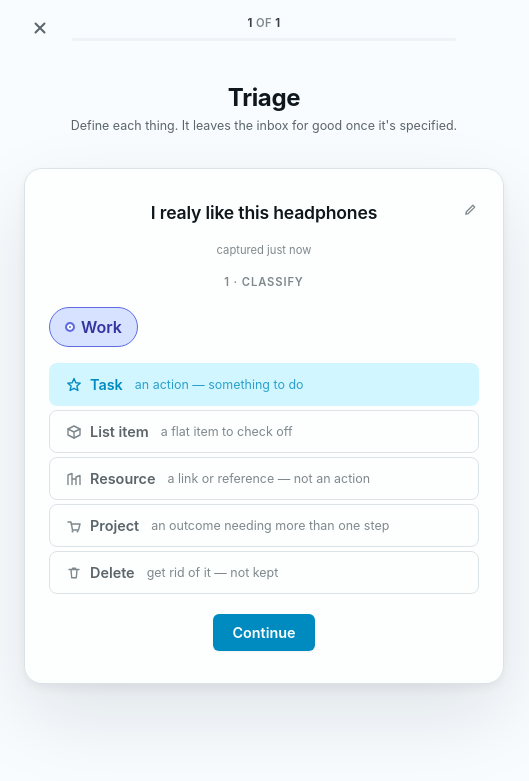
Test: TriagePage › edits the captured text in Classify and persists it back to the item
The image size is (529, 781).
Expected: the field labelled "Captured text" is not shown
Click the text "I realy like this headphones" at [264, 212], box [151,202,377,222]
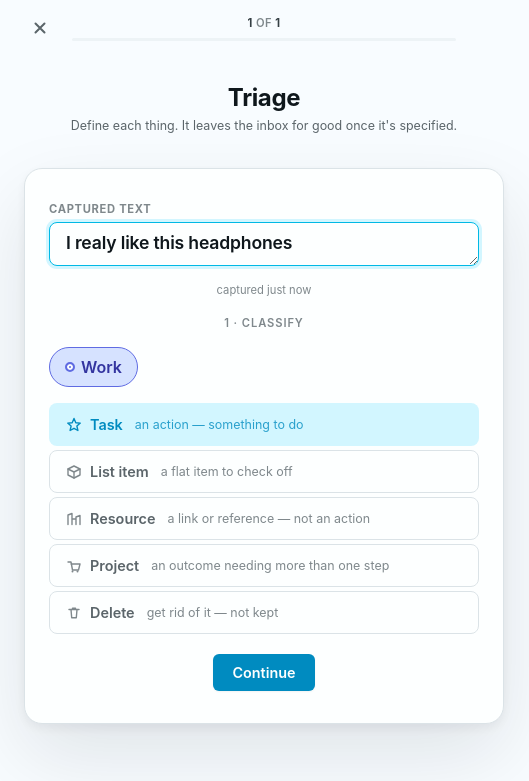
Now the text box labelled "Captured text" is shown
Leave the text box labelled "Captured text", box [49,221,479,265]
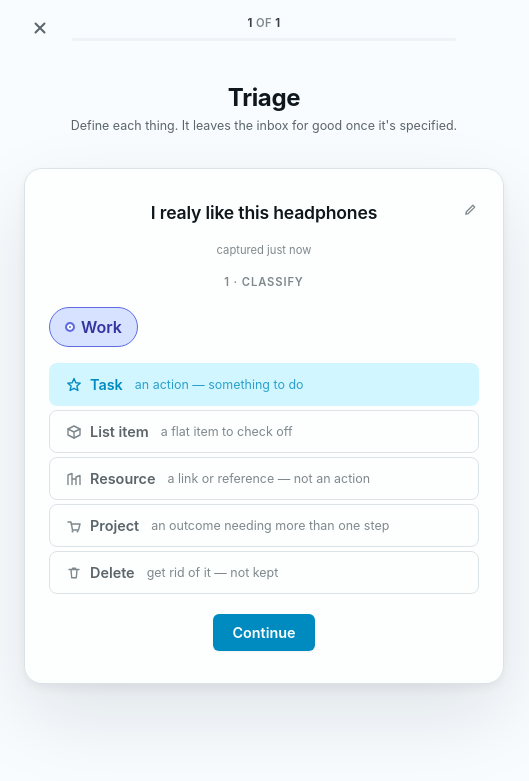
Note: …and so does the pencil.
Click the button named "Edit captured text" at [470, 210], box [457,196,483,222]
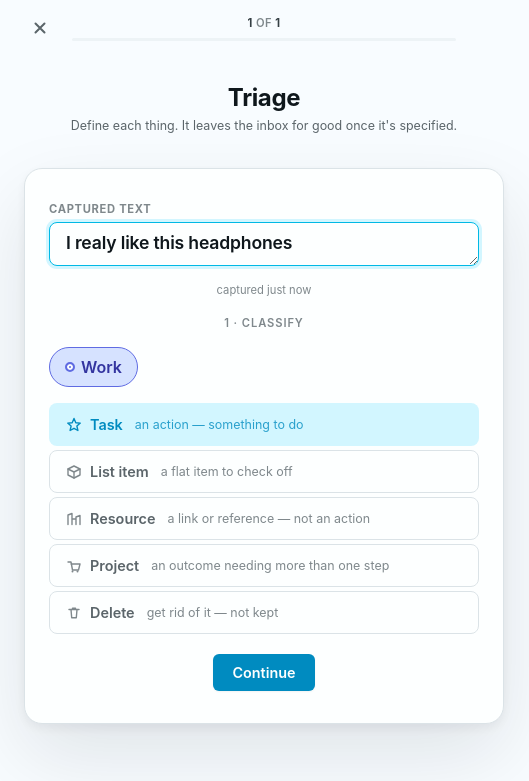
Replace the text in the text box labelled "Captured text" with "I really like these headphones" at [264, 243], box [49,221,479,265]
Wait 600 ms
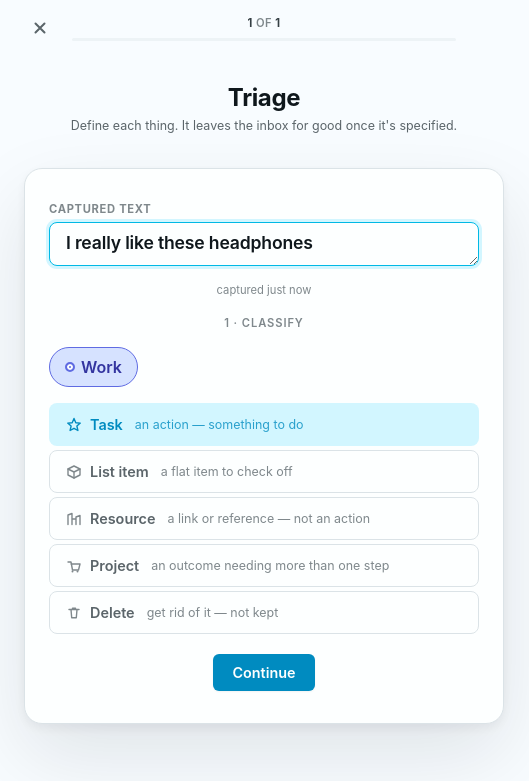
Note: Blur returns the card to its reading surface with the corrected text.
Leave the text box labelled "Captured text", box [49,221,479,265]
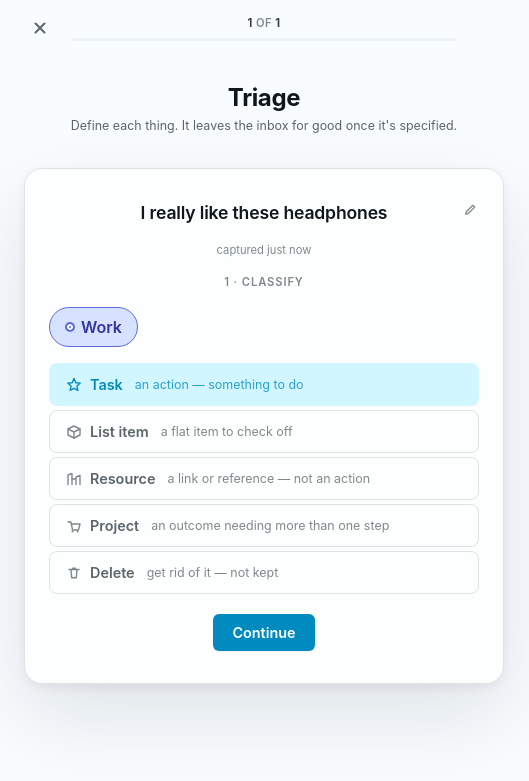
Now the text "Captured text" is gone
Now the text "I really like these headphones" is shown, box [141,202,387,222]
